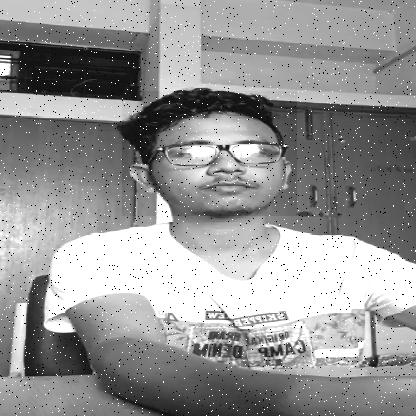Normal: (122, 91, 297, 216)
